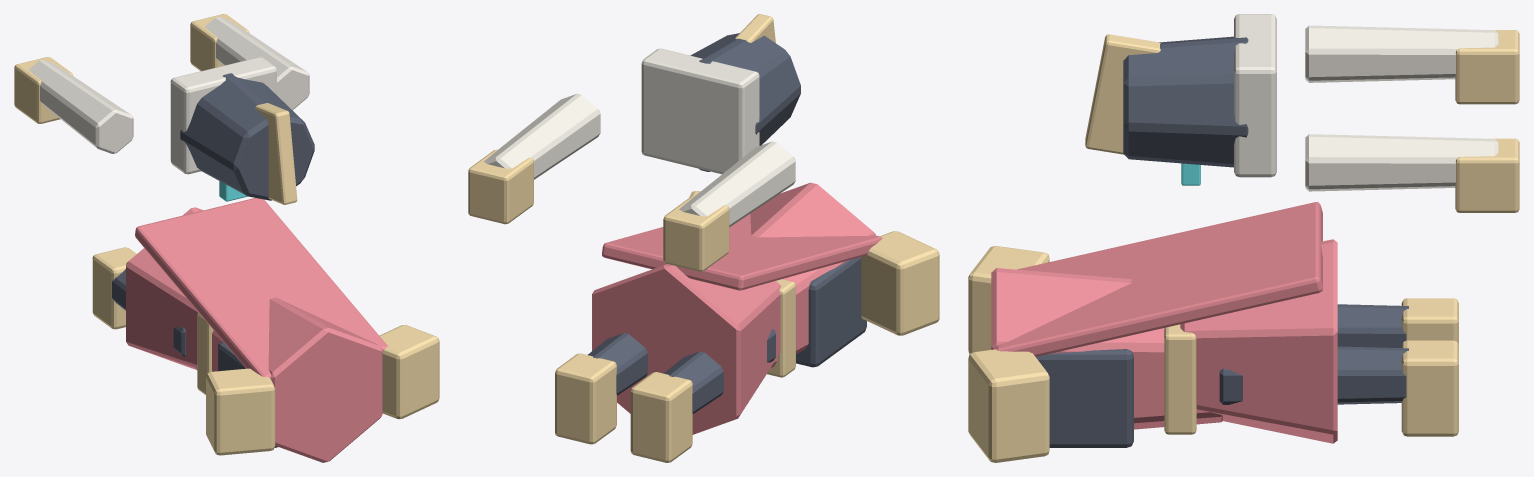
File: Hero_Expeditioner.fbx
3 renders of one model, left to right at view 1: azimuth 30°, elevation 25°; view 2: azimuth 150°, elevation 25°; view 3: azimuth 270°, elevation 25°, orthographic. The views are drawn at different scales.
Visible parts, largest first — view 1: Cape, TorsoCoat, Helm, CoatTail, LeftPauldron, LeftArmMesh, RightPauldron, ScarfCollar, RightArmMesh, HelmCrest, LeftBoot, LeftGauntlet (+4 smaller); view 2: CoatTail, ScarfCollar, Cape, LeftPauldron, TorsoCoat, LeftBoot, RightBoot, RightArmMesh, Helm, ChestPlate, LeftArmMesh, LeftGauntlet (+5 smaller); view 3: Cape, CoatTail, Helm, TorsoCoat, RightArmMesh, LeftArmMesh, RightPauldron, ChestPlate, ScarfCollar, RightBoot, RightLegMesh, LeftGauntlet (+6 smaller).
Part boxes in pixels (x1=…): Cape: x1=135, y1=198, x2=387, y2=378; TorsoCoat: x1=195, y1=297, x2=382, y2=462; Helm: x1=180, y1=73, x2=314, y2=200; CoatTail: x1=126, y1=207, x2=203, y2=369; LeftPauldron: x1=206, y1=368, x2=275, y2=455; LeftArmMesh: x1=28, y1=59, x2=133, y2=153; RightPauldron: x1=379, y1=325, x2=439, y2=419; ScarfCollar: x1=170, y1=57, x2=276, y2=174; RightArmMesh: x1=205, y1=17, x2=309, y2=110; HelmCrest: x1=255, y1=103, x2=297, y2=204; LeftBoot: x1=92, y1=247, x2=136, y2=329; LeftGauntlet: x1=14, y1=57, x2=73, y2=123; CoatTail: x1=592, y1=264, x2=781, y2=434; ScarfCollar: x1=641, y1=48, x2=759, y2=174; Cape: x1=602, y1=214, x2=882, y2=290; LeftPauldron: x1=861, y1=231, x2=939, y2=335; TorsoCoat: x1=750, y1=182, x2=875, y2=367; LeftBoot: x1=630, y1=372, x2=692, y2=462; RightBoot: x1=555, y1=353, x2=616, y2=444; RightArmMesh: x1=484, y1=93, x2=600, y2=179; Helm: x1=690, y1=33, x2=800, y2=171; ChestPlate: x1=796, y1=257, x2=866, y2=367; LeftArmMesh: x1=679, y1=141, x2=795, y2=227; LeftGauntlet: x1=663, y1=197, x2=729, y2=271; Cape: x1=995, y1=202, x2=1322, y2=356; CoatTail: x1=1180, y1=239, x2=1337, y2=443; Helm: x1=1123, y1=36, x2=1248, y2=167; TorsoCoat: x1=991, y1=268, x2=1222, y2=429; RightArmMesh: x1=1305, y1=134, x2=1498, y2=191; LeftArmMesh: x1=1305, y1=25, x2=1498, y2=82; RightPauldron: x1=968, y1=349, x2=1049, y2=462; ChestPlate: x1=1036, y1=349, x2=1133, y2=447; ScarfCollar: x1=1234, y1=14, x2=1276, y2=177; RightBoot: x1=1401, y1=340, x2=1458, y2=436; RightLegMesh: x1=1219, y1=346, x2=1408, y2=404; LeftGauntlet: x1=1455, y1=30, x2=1519, y2=104.
Size of the model in its own units: 0.9137 by 1.25 by 1.54.
